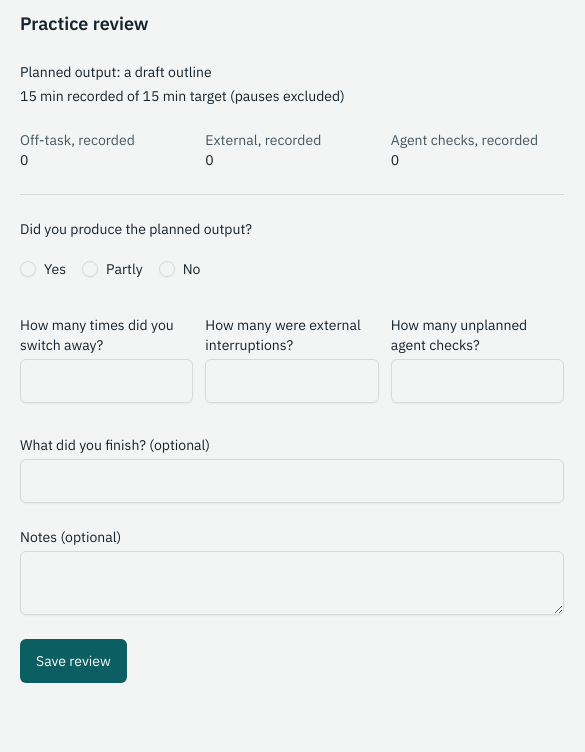
Scenario: PracticeReview › a 409 event_count_mismatch renders Some entries have not been saved yet with Retry and keeps the typed values
The image size is (585, 752).
Expected: the radio button named "Yes" next to "Yes" is shown, [20,261,36,277]
Click the field labelled "What did you finish? (optional)" at (292, 481), box [20,459,564,503]
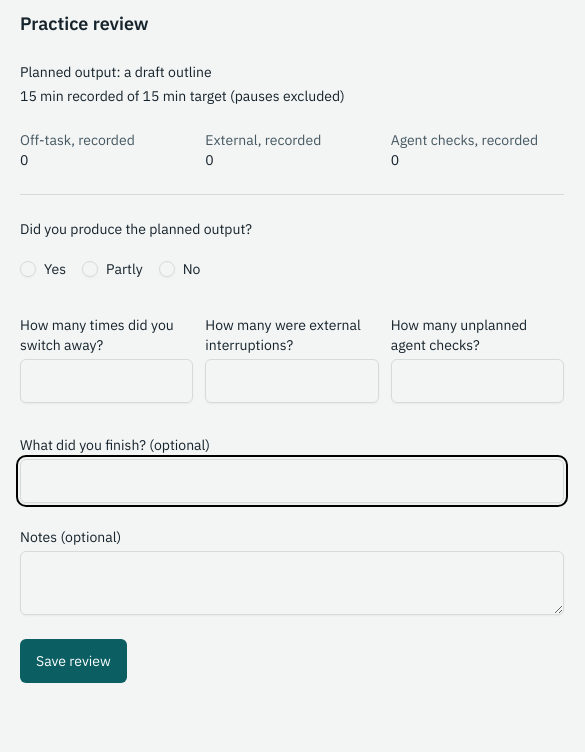
Type keys "kept typing through the retry"
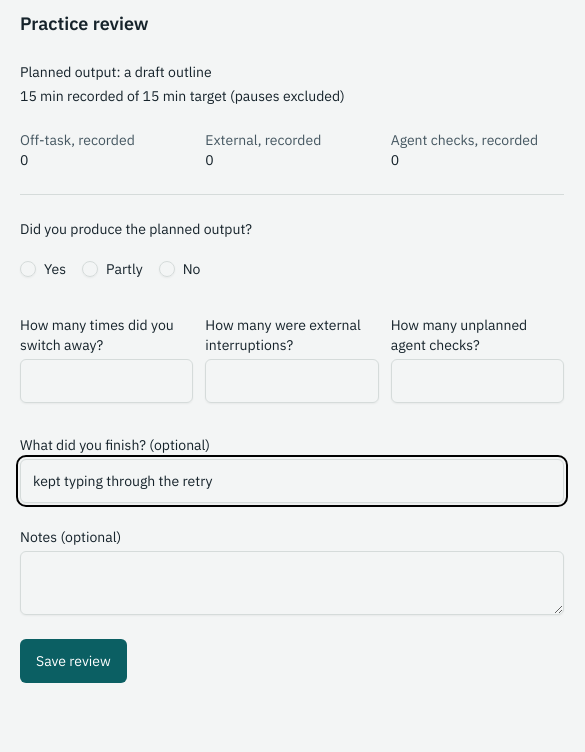
Click the radio button named "Yes" next to "Yes" at (28, 269), box [20,261,36,277]
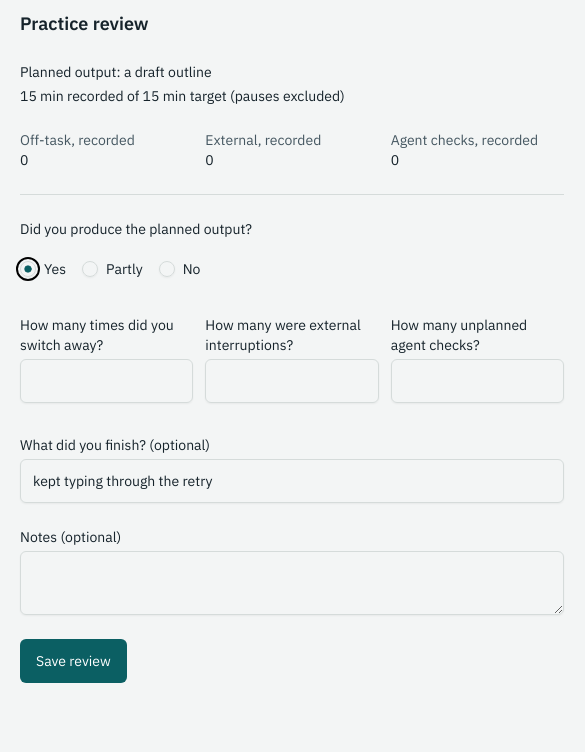
Click the button "Save review" at (73, 661), box [20,639,127,683]
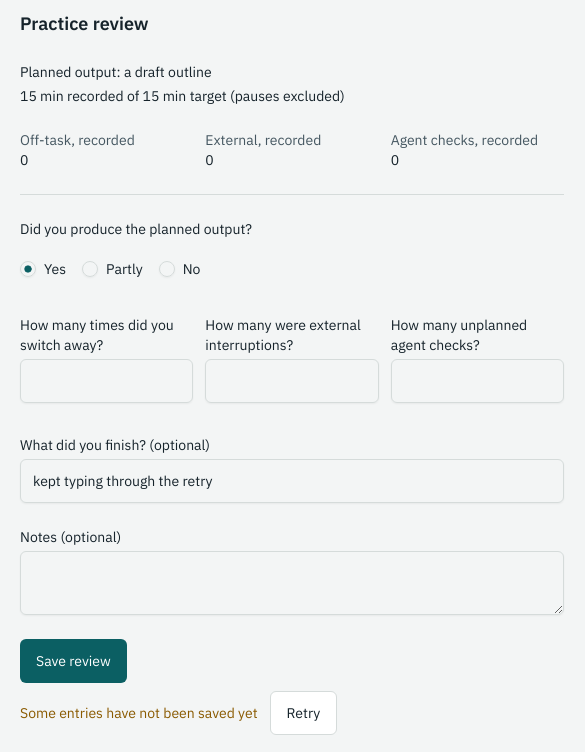
Expected: the field labelled "What did you finish? (optional)" holds "kept typing through the retry", [20,459,564,503]
Expected: the text "Some entries have not been saved yet" is shown, [20,703,258,723]
Expected: the button "Retry" is shown, [270,691,337,735]
